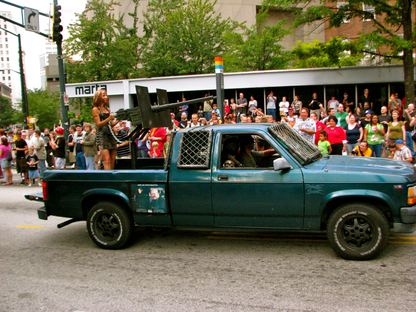truck: (21, 121, 416, 262)
